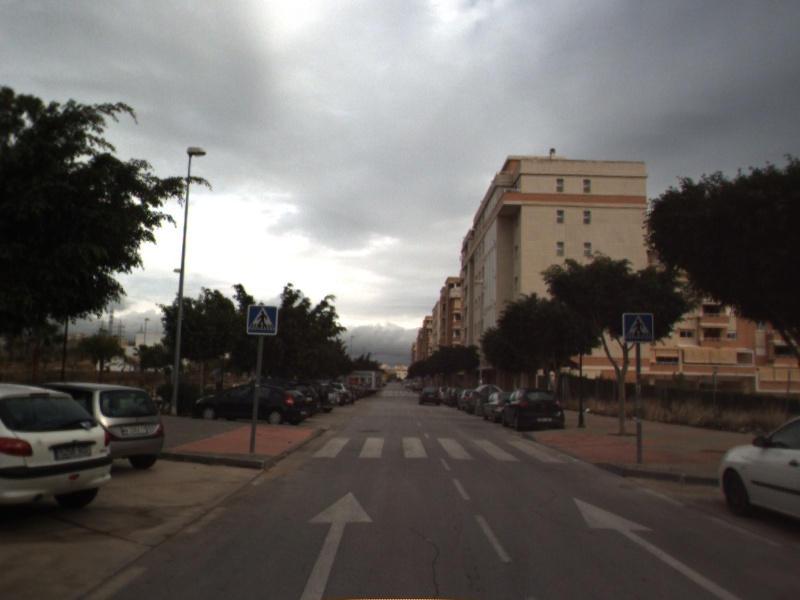STRAIGHT: (571, 496, 745, 600), (297, 489, 375, 600)
